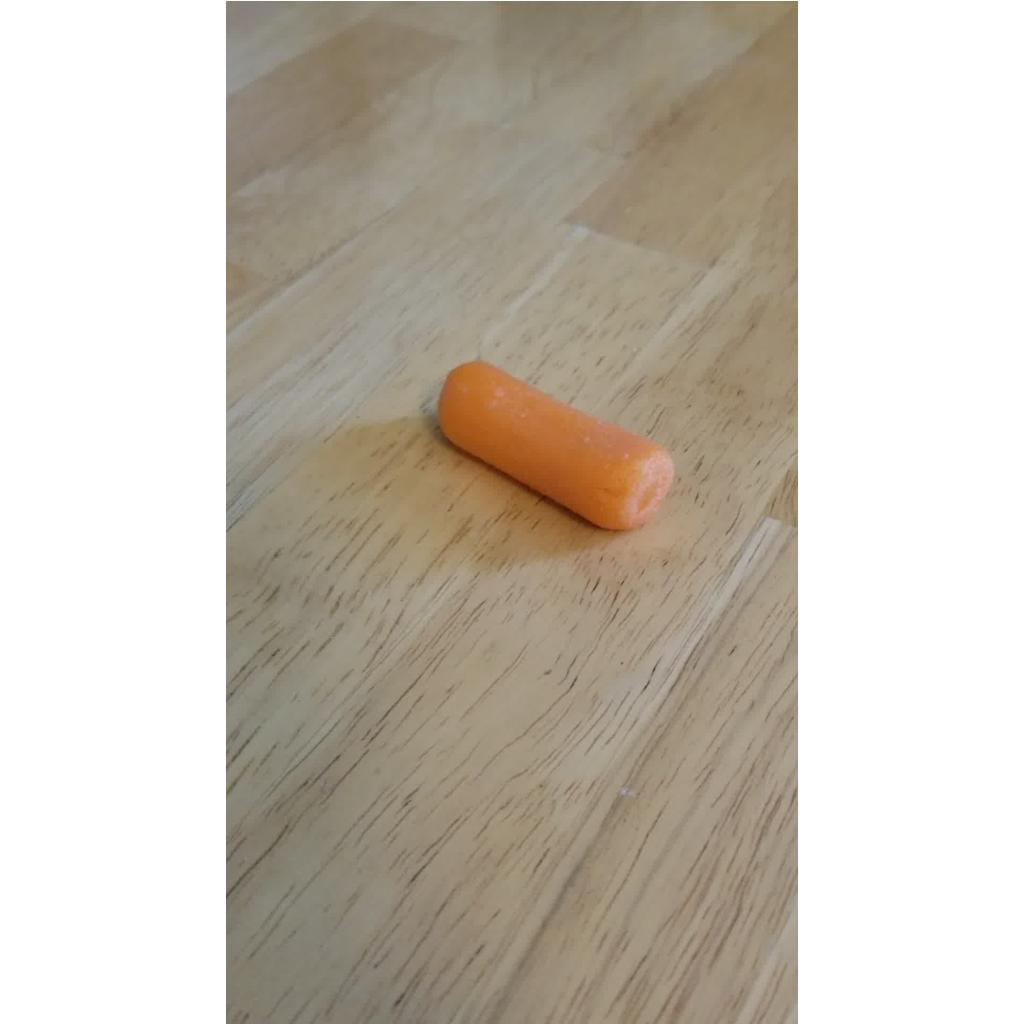carrot: (438, 360, 674, 530)
